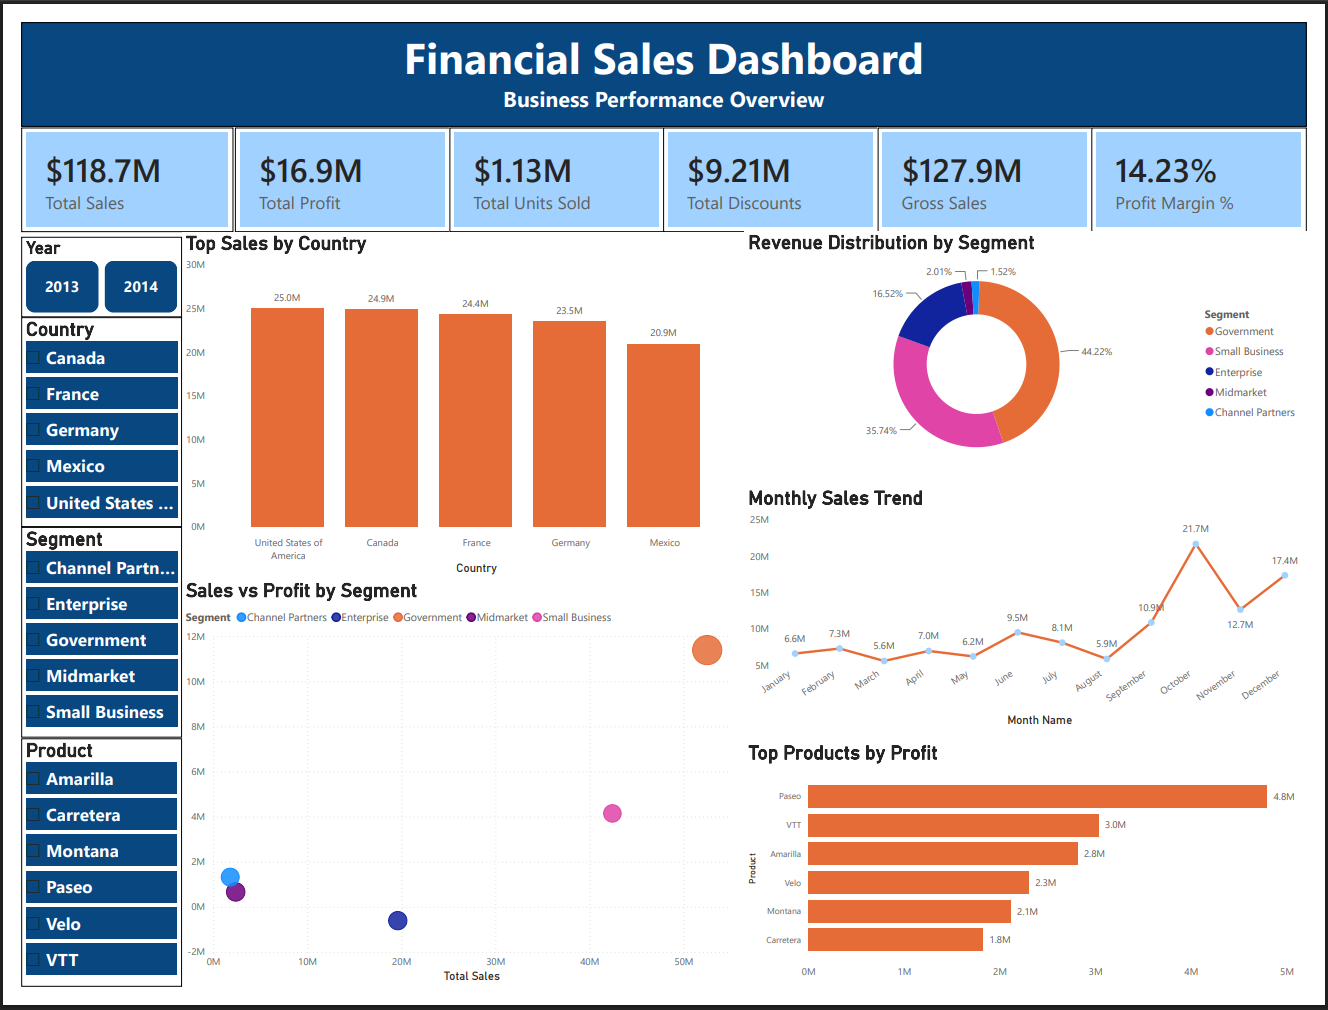

What the dashboard file says about the page in this screenshot:
{"tool":"powerbi","page":{"name":"Financial  Sales Dashboard ","canvas":[1600,1200],"ordinal":0},"visuals":[{"type":"textbox","box":[0,0,1600,130],"z":0},{"type":"cardVisual","fields":{"Data":["Financials.Total Sales"]},"box":[0,131,264,130],"z":0,"group":"g2"},{"type":"group","id":"g1","title":"Group 1","box":[0,131,1600,130],"z":1000},{"type":"cardVisual","fields":{"Data":["Financials.Total Profit"]},"box":[266.5,131,267.7,130],"z":1000,"group":"g2"},{"type":"group","id":"g2","title":"Group 2","box":[0,131,1600,130],"z":1001,"group":"g1"},{"type":"cardVisual","fields":{"Data":["Financials.Total Units Sold"]},"box":[532.9,131,267.7,130],"z":2000,"group":"g2"},{"type":"clusteredColumnChart","title":"Top Sales by Country","fields":{"Category":["Financials.Country"],"Y":["Financials.Total Sales"]},"box":[200,260.8,700,431.7],"z":2000},{"type":"cardVisual","fields":{"Data":["Financials.Total Discounts"]},"box":[799.4,131,267.7,130],"z":3000,"group":"g2"},{"type":"donutChart","title":"Revenue Distribution by Segment","fields":{"Category":["Financials.Segment"],"Y":["Financials.Total Sales"]},"box":[900,260,700,304],"z":3000},{"type":"cardVisual","fields":{"Data":["Financials.Total Gross Sales"]},"box":[1065.9,131,267.7,130],"z":4000,"group":"g2"},{"type":"lineChart","title":"Monthly Sales Trend","fields":{"Category":["Financials.Month Name"],"Y":["Financials.Total Sales"]},"box":[900,577.5,700,304],"z":4000},{"type":"cardVisual","fields":{"Data":["Financials.Profit Margin %"]},"box":[1332.3,131,267.7,130],"z":5000,"group":"g2"},{"type":"clusteredBarChart","title":"Top Products by Profit","fields":{"Category":["Financials.Product"],"Y":["Financials.Total Profit"]},"box":[900,895,700,305],"z":5000},{"type":"scatterChart","title":"Sales vs Profit by Segment","fields":{"X":["Financials.Total Sales"],"Y":["Financials.Total Profit"],"Size":["Financials.Total Units Sold"],"Series":["Financials.Segment"]},"box":[200,692.5,700,507.5],"z":6000},{"type":"advancedSlicerVisual","fields":{"Values":["Financials.Year"]},"box":[0,266.7,200,100],"z":6002},{"type":"listSlicer","fields":{"Values":["Financials.Country"]},"box":[0,366.7,200,261.1],"z":6003},{"type":"listSlicer","fields":{"Values":["Financials.Segment"]},"box":[0,627.8,200,262.2],"z":6004},{"type":"listSlicer","fields":{"Values":["Financials.Product"]},"box":[0,890.6,199.7,309.8],"z":6005}]}

Visuals, with their boxes in screenshot pixels (x1, y1, x2, y2), scaled from the page's 1600x1200 canvas onto the 1328x1010 screenshot:
textbox: 0/0/1327/109
cardVisual - Financials.Total Sales: 0/110/219/220
"Group 1" group: 0/110/1327/220
cardVisual - Financials.Total Profit: 221/110/443/220
"Group 2" group: 0/110/1327/220
cardVisual - Financials.Total Units Sold: 442/110/664/220
"Top Sales by Country" clusteredColumnChart: 166/220/747/583
cardVisual - Financials.Total Discounts: 664/110/886/220
"Revenue Distribution by Segment" donutChart: 747/219/1327/475
cardVisual - Financials.Total Gross Sales: 885/110/1107/220
"Monthly Sales Trend" lineChart: 747/486/1327/742
cardVisual - Financials.Profit Margin %: 1106/110/1327/220
"Top Products by Profit" clusteredBarChart: 747/753/1327/1009
"Sales vs Profit by Segment" scatterChart: 166/583/747/1009
advancedSlicerVisual - Financials.Year: 0/224/166/309
listSlicer - Financials.Country: 0/309/166/528
listSlicer - Financials.Segment: 0/528/166/749
listSlicer - Financials.Product: 0/750/166/1009
